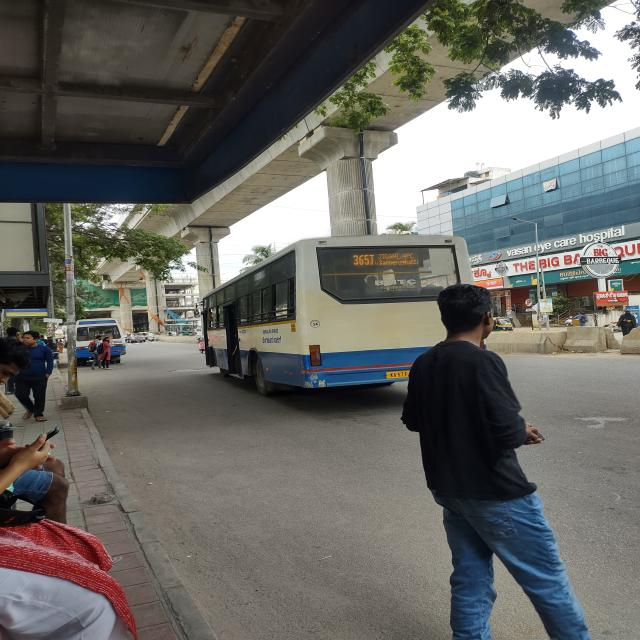bus: (188, 236, 441, 409)
display: (350, 252, 424, 268)
dnumber: (352, 253, 375, 266)
